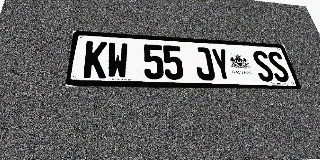5: (162, 45, 185, 80), (143, 44, 165, 80)
J: (193, 47, 216, 81)
K: (83, 41, 107, 78)
S: (251, 50, 276, 82), (266, 51, 291, 82)
W: (106, 42, 128, 79)
Y: (210, 48, 234, 81)
